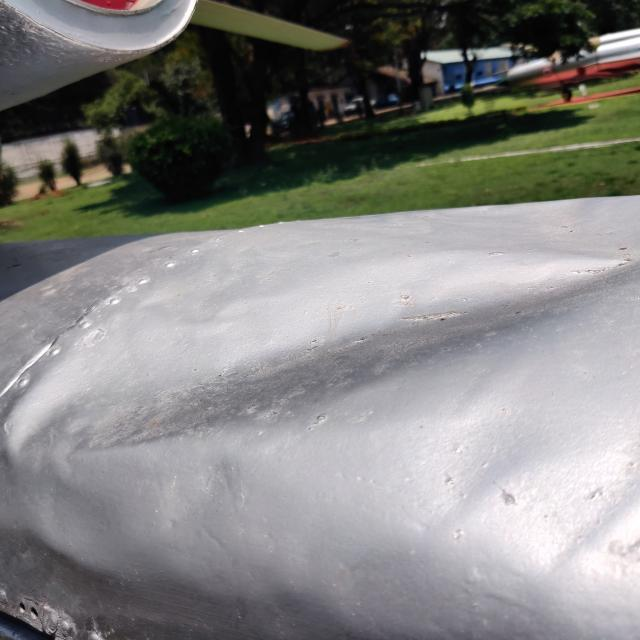dent: (0, 211, 640, 497), (512, 463, 640, 608), (410, 425, 546, 548)
